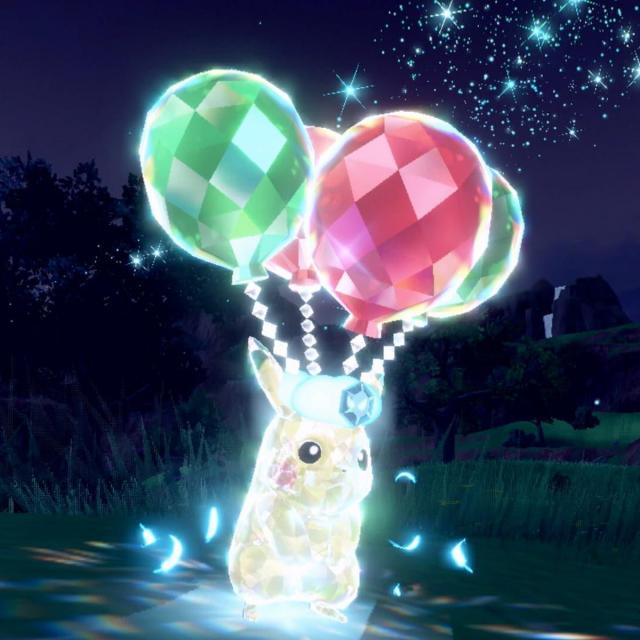Pikachu: (179, 341, 472, 640)
